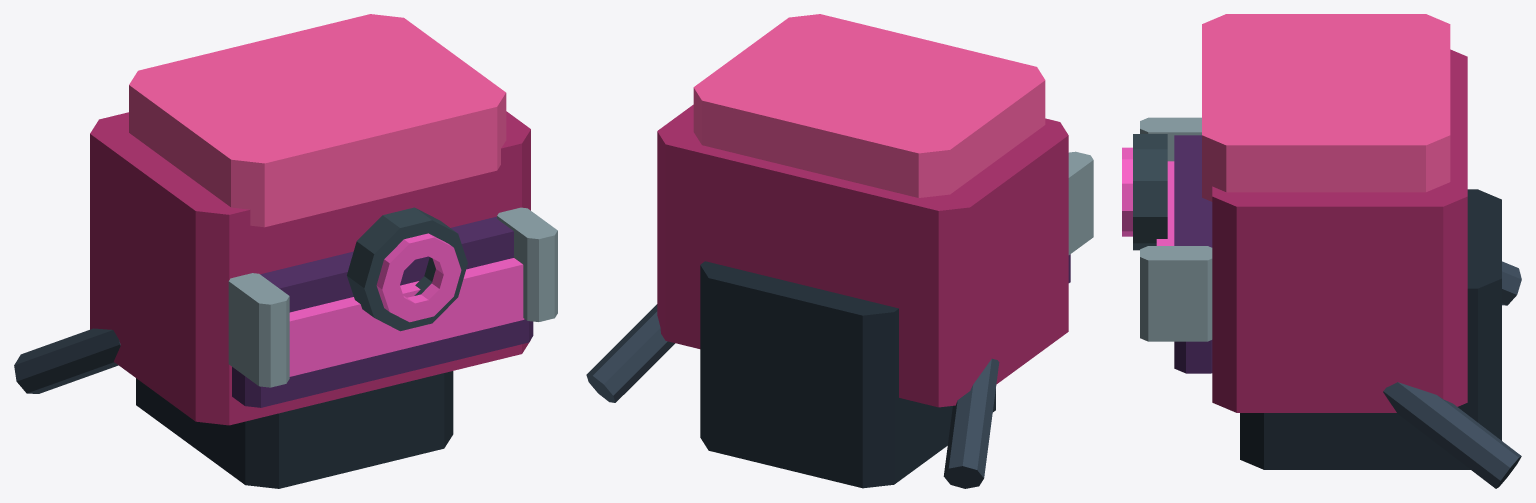
Rendered from enemy_striker_head.obj.
3 views of the same model, side by side, from view 1: azimuth 30°, elevation 25°; view 2: azimuth 150°, elevation 25°; view 3: azimuth 270°, elevation 25° (orthographic). The views are drawn at different scales.
Size of the model in its own units: 0.6952 by 0.545 by 0.5798.
